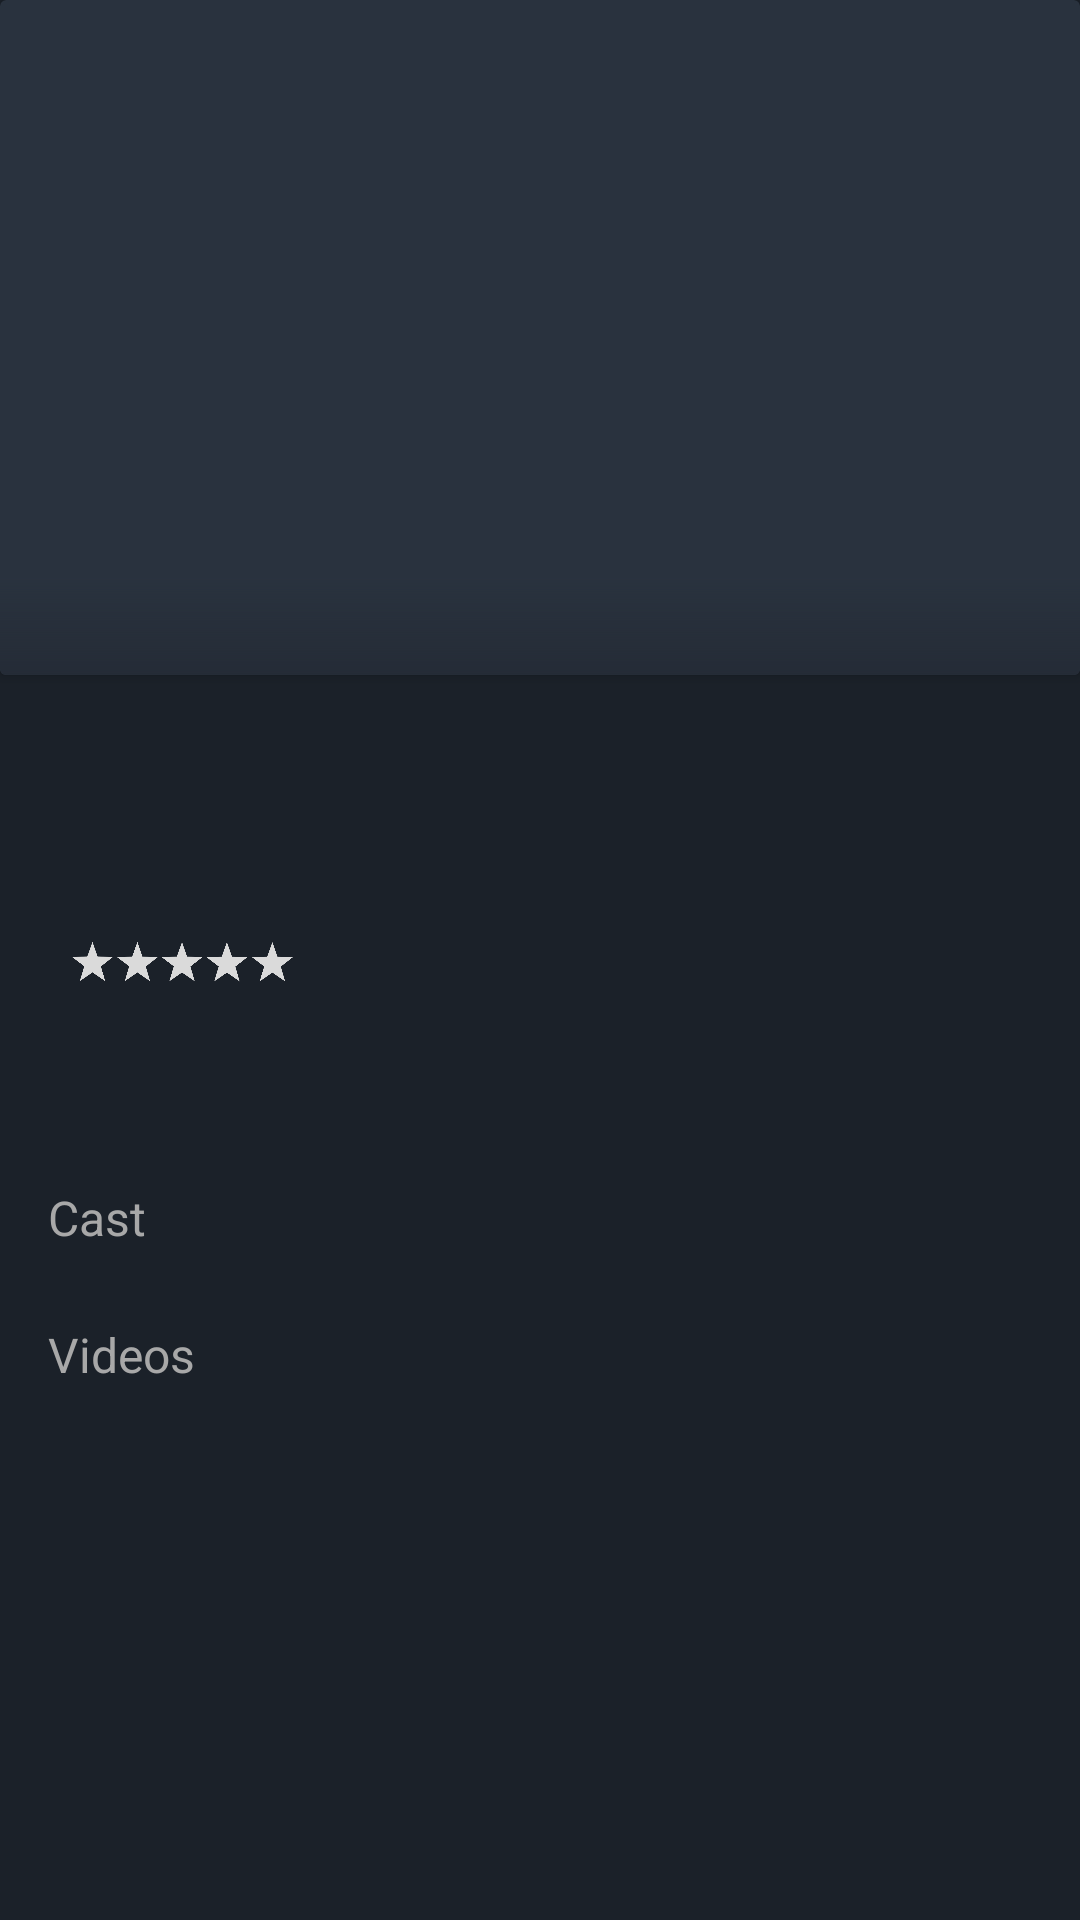

Icons on this 1080w x 1920h Android screen, each with its box as box(x1, y1, x2, y2):
five stars: box(73, 942, 293, 981)
